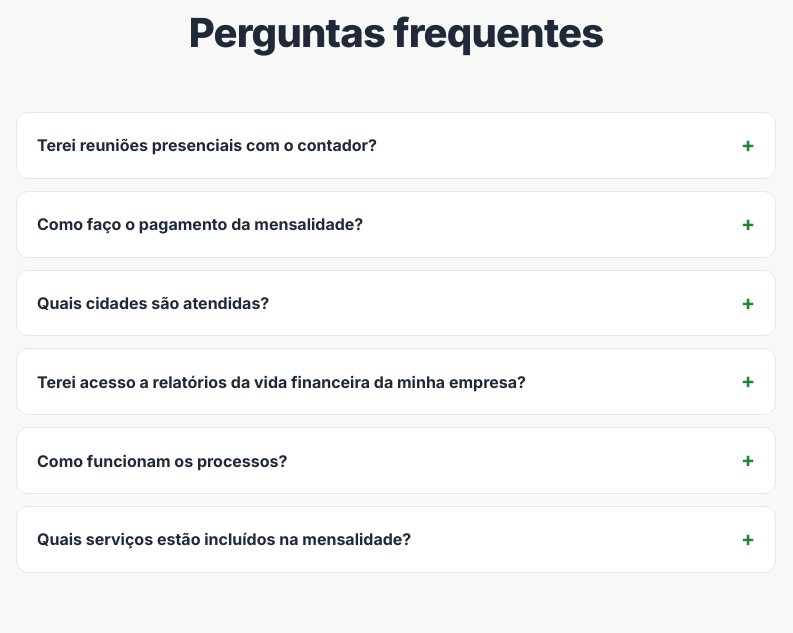
Test: Faq › reveals the answer when its question is clicked
Click the button "Terei reuniões presenciais com o contador? +" at (207, 145), box [37,117,755,174]
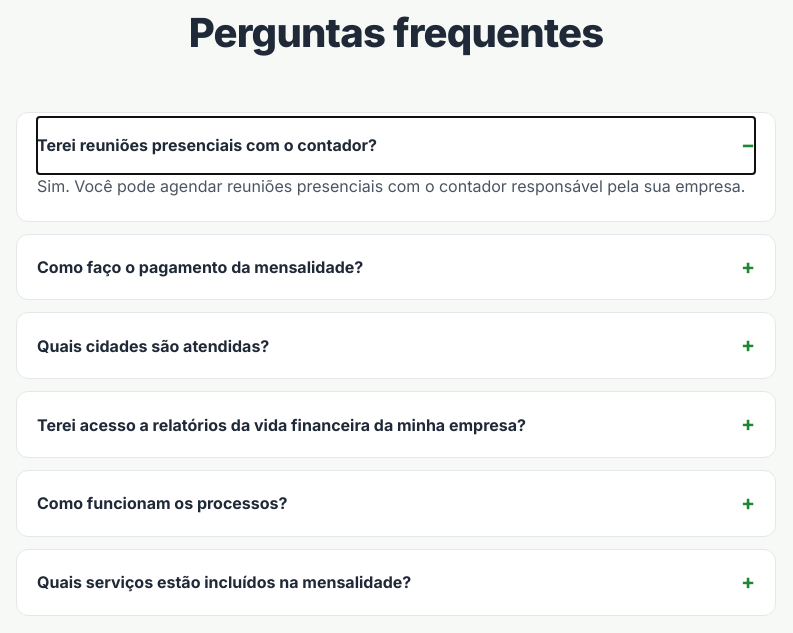
Result: the text "Sim. Você pode agendar reuniões presenciais com o contador responsável pela sua empresa." is shown at [37,176,746,196]
